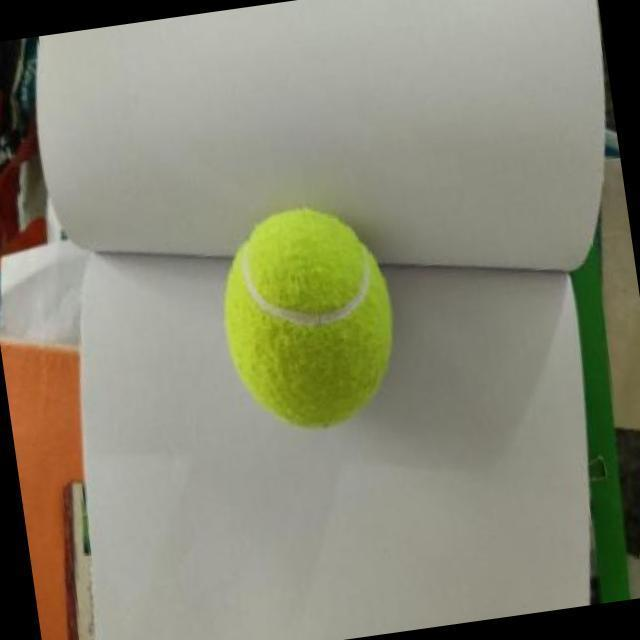-: (196, 173, 441, 458)
